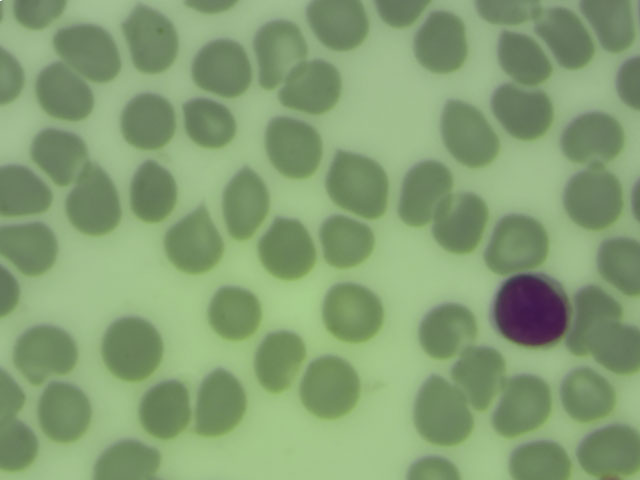RBC: (123, 3, 182, 75), (542, 7, 597, 72), (571, 283, 621, 353), (576, 423, 640, 477), (412, 11, 468, 66), (505, 437, 574, 480), (93, 437, 164, 478), (319, 215, 373, 268), (307, 360, 361, 413), (251, 333, 305, 386), (194, 376, 248, 429), (209, 284, 263, 337), (264, 122, 318, 175), (217, 173, 271, 226), (166, 215, 220, 268), (139, 382, 193, 435), (102, 320, 156, 373), (36, 383, 90, 436), (19, 323, 73, 376), (184, 96, 238, 149), (285, 57, 339, 110), (253, 22, 307, 75), (194, 41, 248, 94), (125, 166, 179, 219), (65, 173, 119, 226), (31, 130, 85, 183), (123, 93, 177, 146), (38, 67, 92, 120), (61, 21, 115, 74), (496, 378, 550, 431), (413, 386, 467, 439), (586, 321, 640, 374), (558, 368, 612, 421), (323, 283, 377, 336), (493, 85, 547, 138), (495, 30, 549, 83), (420, 303, 474, 356), (454, 351, 508, 404), (257, 221, 311, 274), (327, 150, 381, 203), (491, 212, 545, 265), (432, 195, 486, 248), (398, 164, 452, 217), (441, 106, 495, 159), (565, 172, 619, 225), (565, 113, 619, 166), (592, 234, 640, 293), (1, 220, 54, 273), (582, 1, 636, 53), (311, 1, 365, 53), (1, 162, 53, 215), (1, 417, 43, 475), (471, 1, 536, 29), (402, 451, 461, 480), (1, 44, 24, 117), (610, 55, 640, 109), (1, 366, 28, 424), (12, 1, 62, 30), (369, 1, 427, 24)
WBC: (489, 268, 576, 348)
